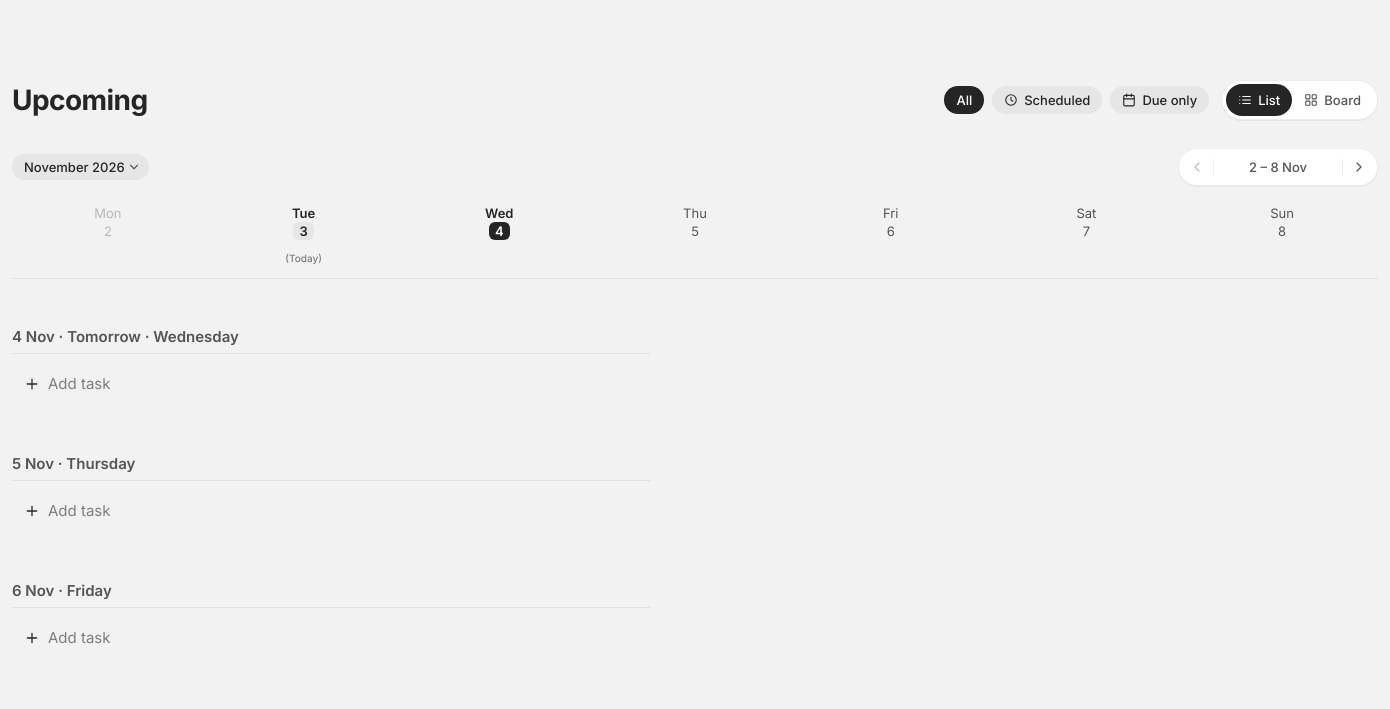
Test case: Upcoming screen (Section 8) › next week shows Mon 9 … Sun 15 and previous becomes enabled; previous week returns to tomorrow
The image size is (1390, 709).
Click the button named "Next week" at {"x": 1359, "y": 167}, box [1343,151,1375,183]
(page scrolled)
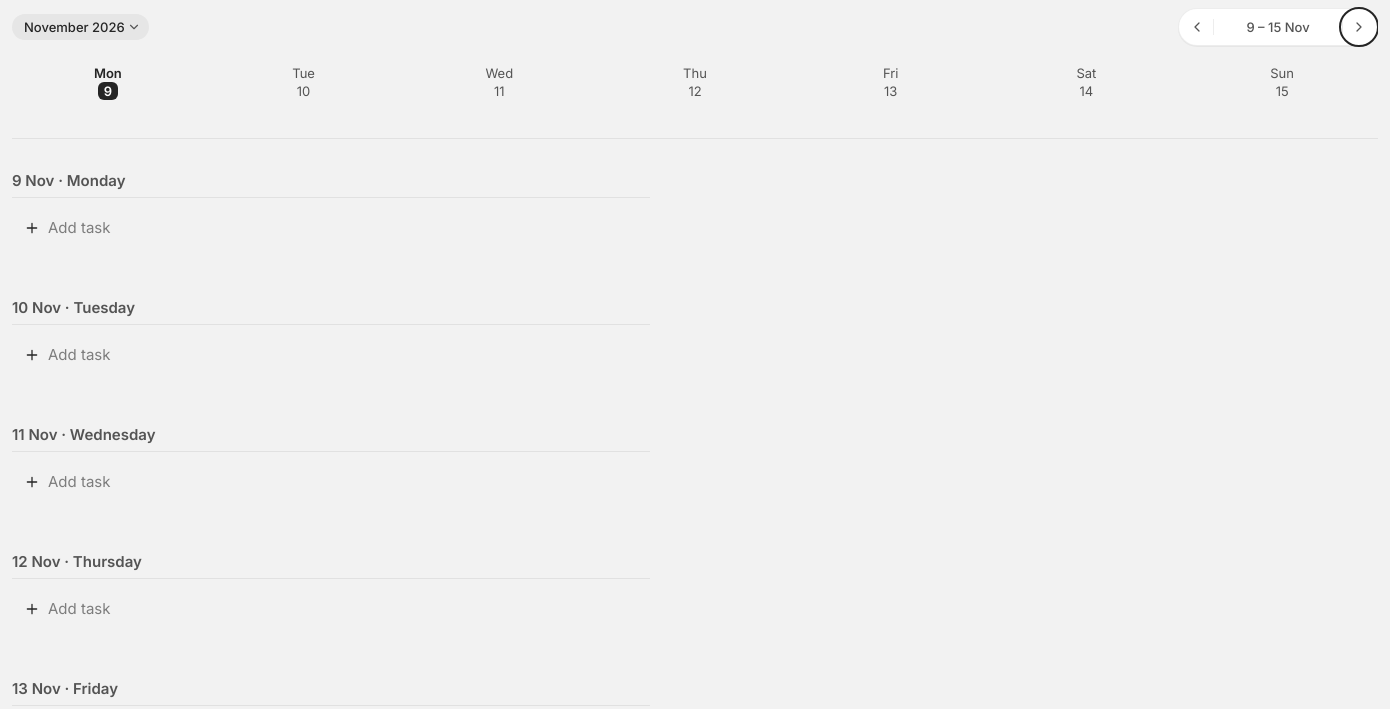
expect the button "Mon 9" is shown: met, box [12,58,204,130]
expect the button "Tue 10" is shown: met, box [208,58,399,130]
expect the button "Thu 12" is shown: met, box [599,58,791,130]
Click the button named "Previous week" at {"x": 1197, "y": 27}, box [1181,11,1213,43]
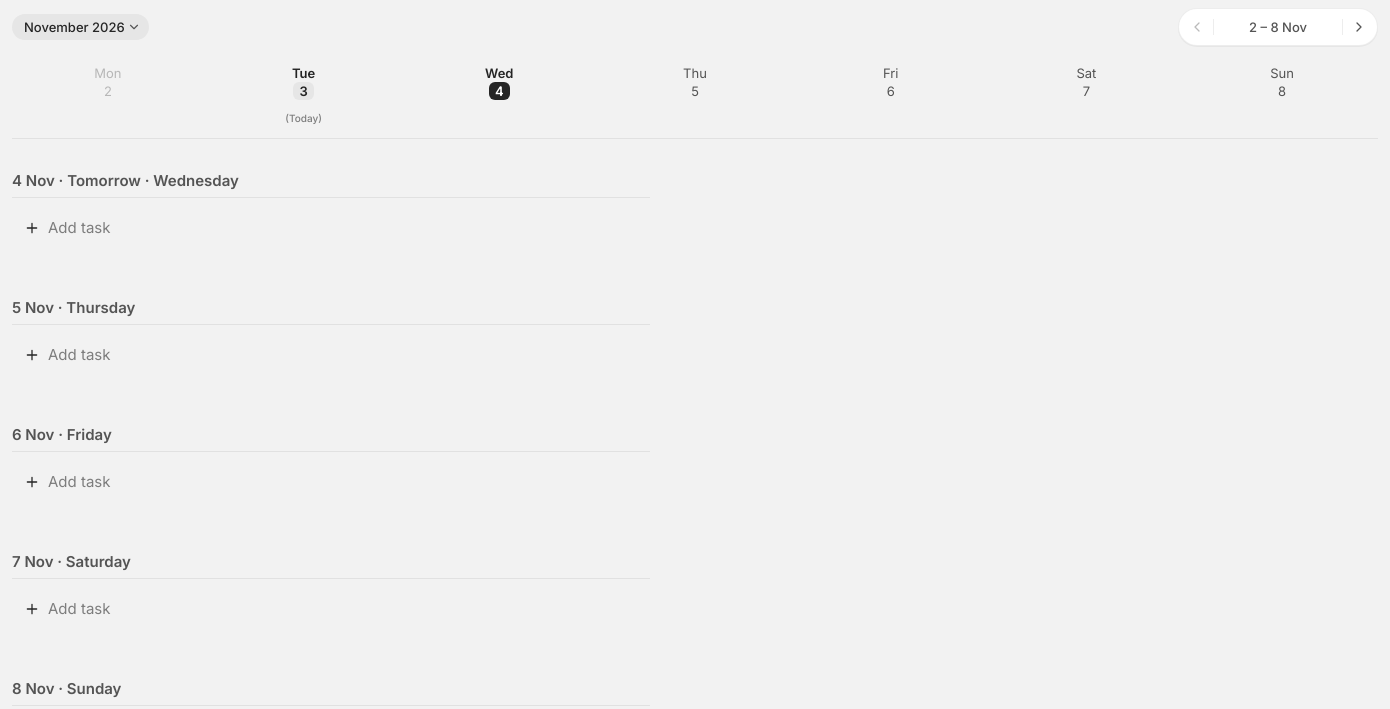
expect the button with aria-label "3 Nov · Today · Tuesday," is shown: met, box [208,58,399,130]
